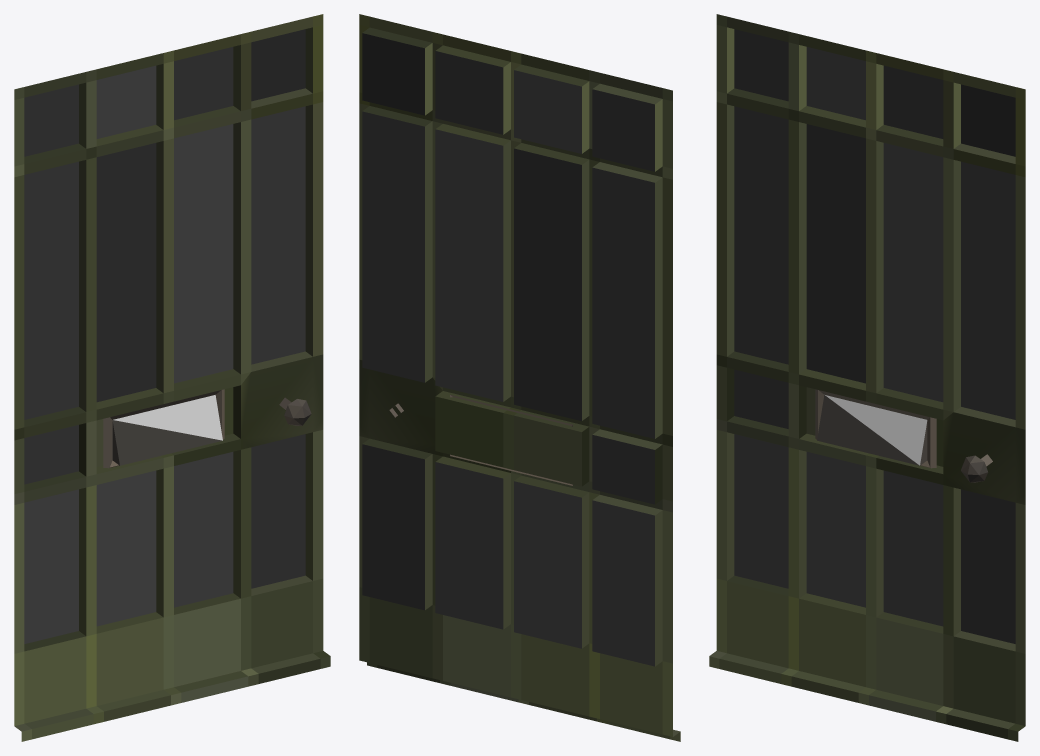
Rendered from Door_3.fbx.
The picture shows the model from 3 angles, left to right: view 1: azimuth 30°, elevation 25°; view 2: azimuth 150°, elevation 25°; view 3: azimuth 330°, elevation 25°; orthographic projection.
Parts seen in each view (by area): view 1: DoorC.001, DoorC, DoorC.002, DoorC.003, DoorC.004, DoorC.006; view 2: DoorC.001, DoorC, DoorC.002, DoorC.003, DoorC.004; view 3: DoorC.001, DoorC, DoorC.002, DoorC.003, DoorC.004, DoorC.006.
Boxes of the visible parts, box(x1,y1,x2,y2) form: DoorC.001: box(14, 102, 323, 429); DoorC: box(14, 14, 330, 741); DoorC.002: box(14, 430, 323, 653); DoorC.003: box(24, 29, 312, 723); DoorC.004: box(24, 357, 312, 484); DoorC.006: box(113, 395, 222, 440); DoorC.001: box(359, 103, 672, 438); DoorC: box(359, 14, 680, 741); DoorC.002: box(359, 436, 672, 666); DoorC.003: box(362, 33, 662, 734); DoorC.004: box(369, 369, 654, 504); DoorC.001: box(716, 102, 1025, 429); DoorC: box(709, 14, 1025, 741); DoorC.002: box(716, 430, 1025, 653); DoorC.003: box(727, 29, 1015, 723); DoorC.004: box(734, 369, 1015, 502); DoorC.006: box(825, 395, 927, 465).
Bounding box in the file's own units: 120 × 240 × 18.22.
